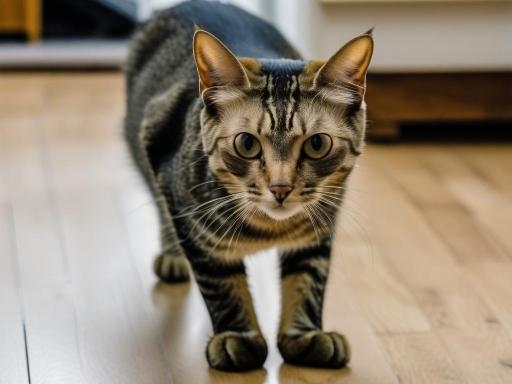cat_standing: (125, 0, 374, 370)
